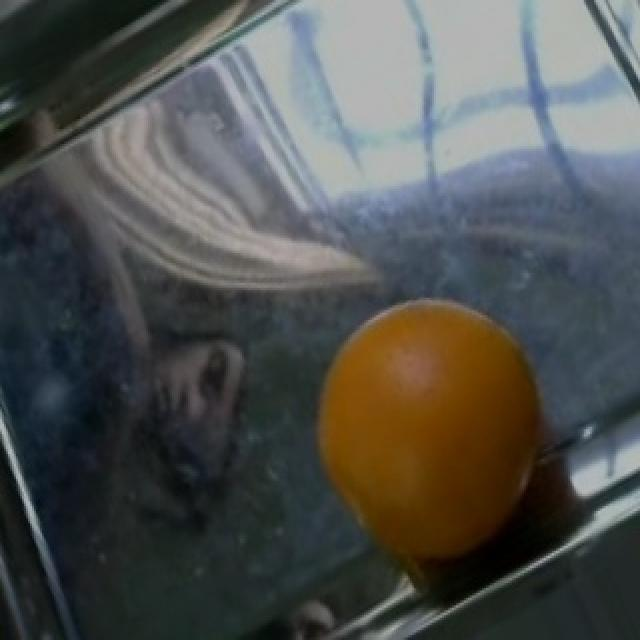Fruit: (292, 276, 568, 590)
